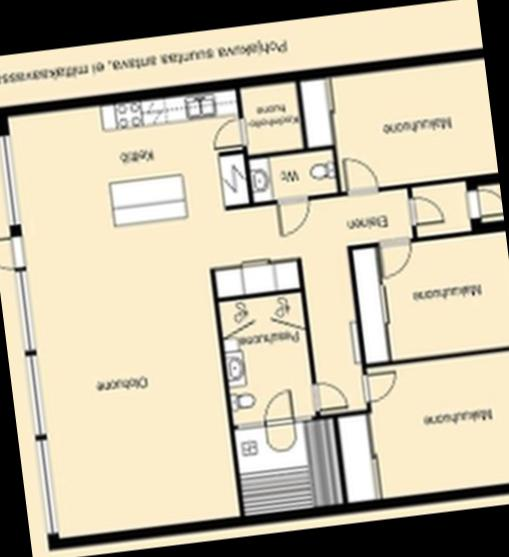door: (374, 232, 416, 282), (338, 152, 381, 198), (270, 191, 312, 238), (205, 113, 250, 155), (308, 374, 350, 414), (358, 367, 402, 404), (462, 184, 503, 220), (405, 194, 446, 227), (0, 229, 29, 274)
window: (30, 433, 62, 544), (8, 267, 44, 357), (20, 348, 52, 440), (0, 126, 23, 235)
